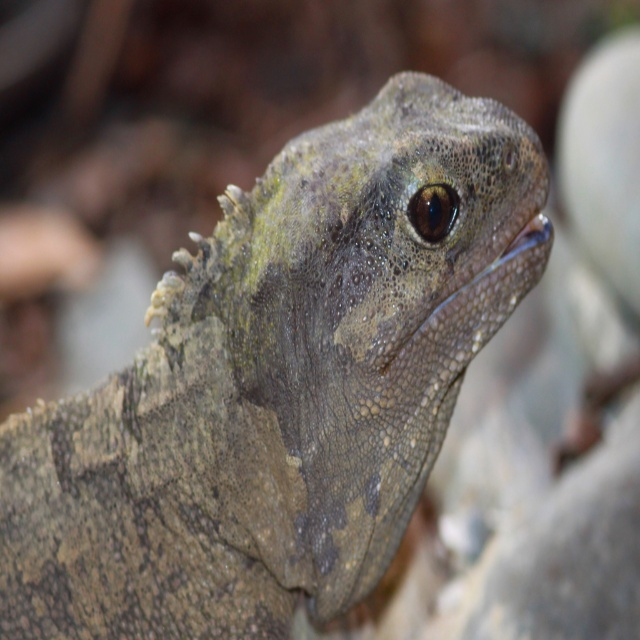Lizard: (1, 70, 556, 639)
